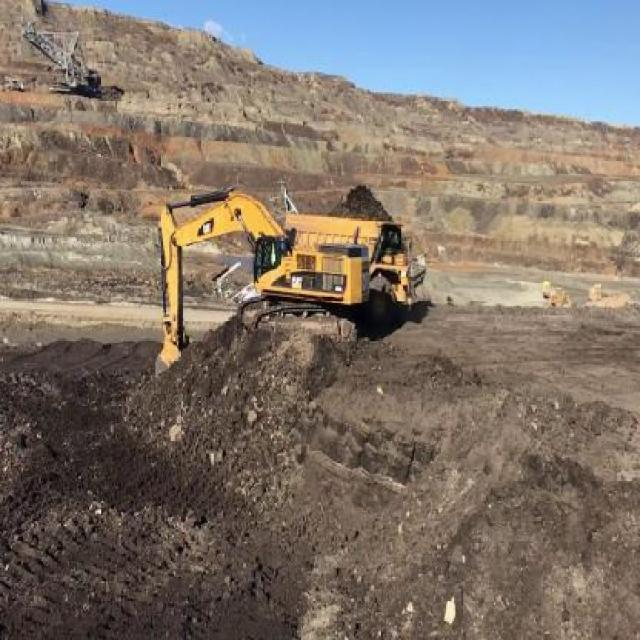Dump Truck: (282, 209, 428, 316)
Excavator: (148, 178, 372, 384)
Mobile Crane: (20, 20, 100, 94)
